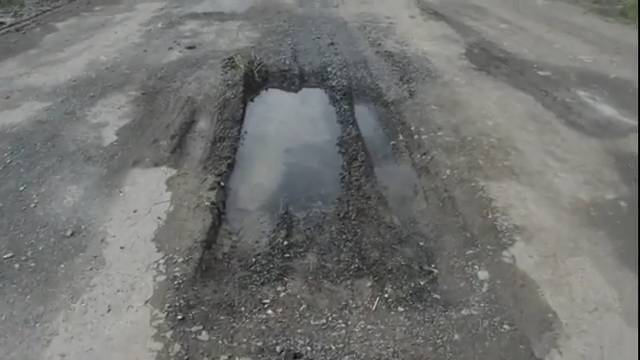pothole: (291, 58, 640, 360), (153, 153, 223, 279)
